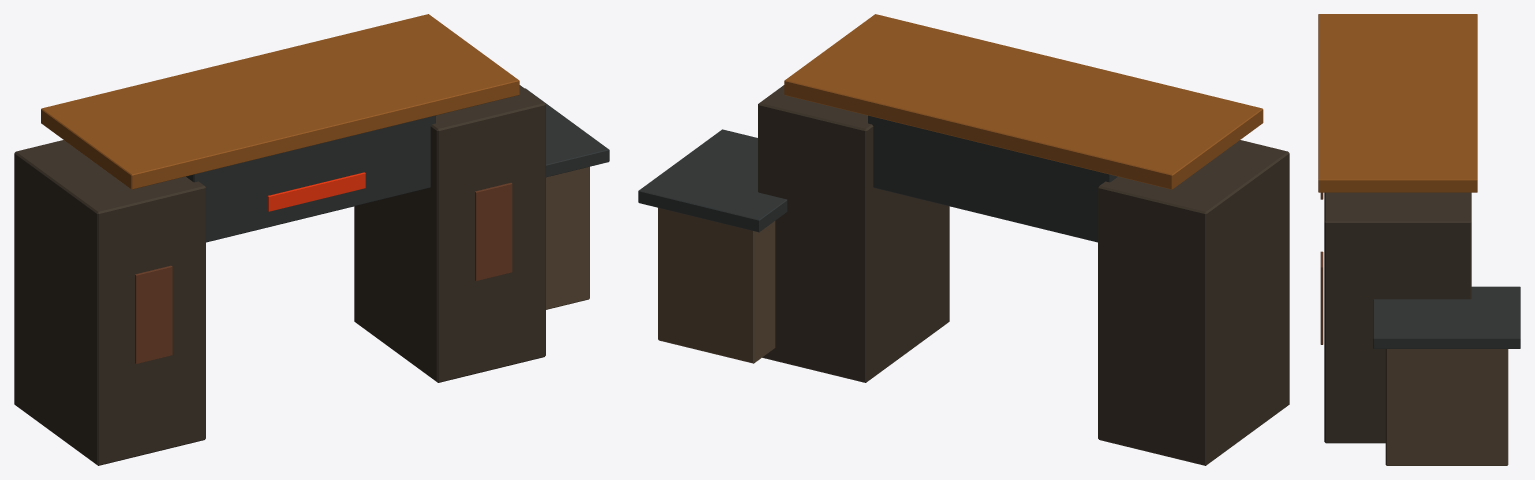
The model's file is BrassIndustrialGatehouse.glb.
3 views of the same model, side by side, from view 1: azimuth 30°, elevation 25°; view 2: azimuth 150°, elevation 25°; view 3: azimuth 270°, elevation 25° (orthographic). The views are drawn at different scales.
Visible parts, largest first — view 1: BrassIndustrialGatehouse; view 2: BrassIndustrialGatehouse; view 3: BrassIndustrialGatehouse.
Boxes of the visible parts, box(x1,y1,x2,y2) form: BrassIndustrialGatehouse: box(14, 14, 609, 465); BrassIndustrialGatehouse: box(638, 14, 1289, 465); BrassIndustrialGatehouse: box(1318, 14, 1520, 465).
Size of the model in its own units: 44.5 by 22.6 by 16.5.
Materials: 1 (1 with a texture image).
